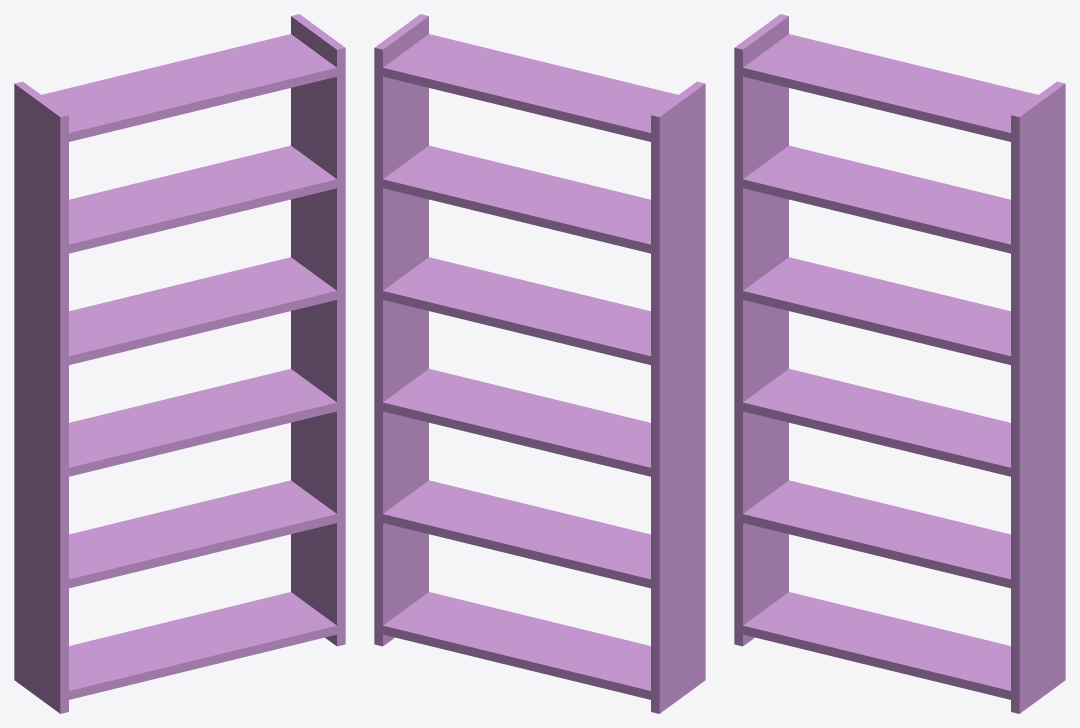
The model's file is Estantería.fbx.
3 renders of one model, left to right at view 1: azimuth 30°, elevation 25°; view 2: azimuth 150°, elevation 25°; view 3: azimuth 330°, elevation 25°, orthographic.
Parts seen in each view (by area): view 1: Shelve; view 2: Shelve; view 3: Shelve.
Part boxes in pixels (box(x1,y1,x2,y2)): Shelve: box(14, 14, 345, 713); Shelve: box(374, 14, 705, 713); Shelve: box(734, 14, 1065, 713).
Size of the model in its own units: 100 by 200 by 28.
